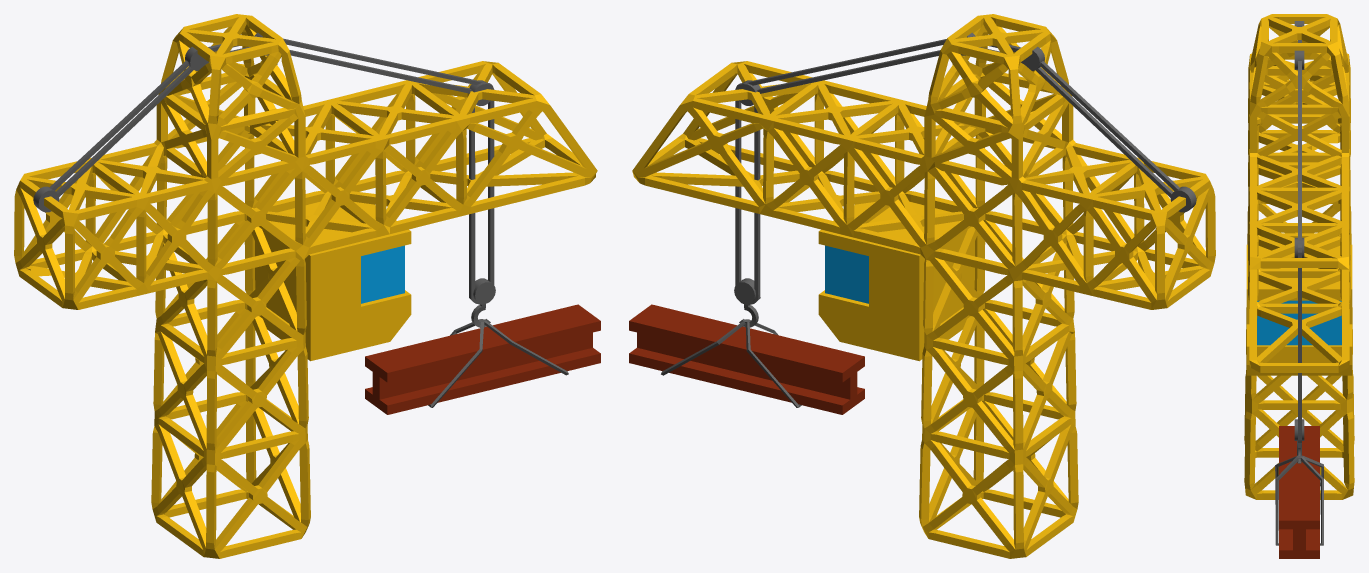
File: building_construction.fbx
3 views of the same model, side by side, from view 1: azimuth 30°, elevation 25°; view 2: azimuth 150°, elevation 25°; view 3: azimuth 270°, elevation 25° (orthographic). The views are drawn at different scales.
Parts seen in each view (by area): view 1: Cube.466; view 2: Cube.466; view 3: Cube.466.
Part boxes in pixels (x1=…): Cube.466: x1=14, y1=14, x2=600, y2=558; Cube.466: x1=629, y1=14, x2=1215, y2=558; Cube.466: x1=1244, y1=14, x2=1354, y2=558.
Bounding box in the file's own units: 235 × 200 × 44.58.
Materials: 1 (1 with a texture image).
